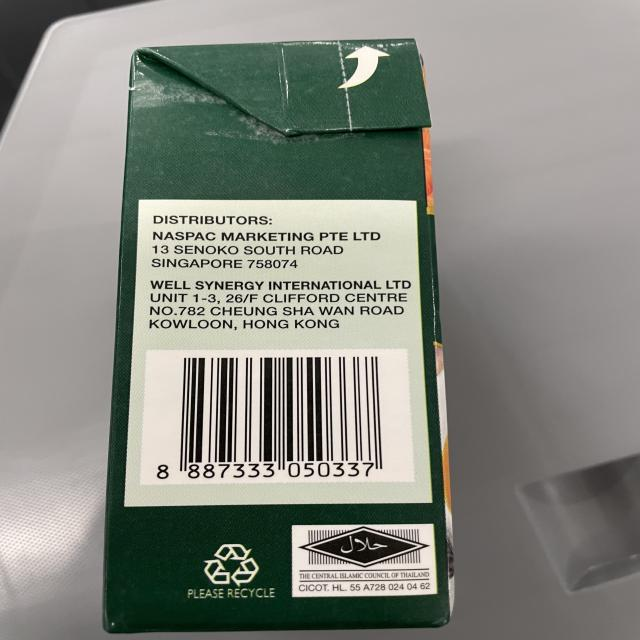object_name: (129, 46, 449, 611)
